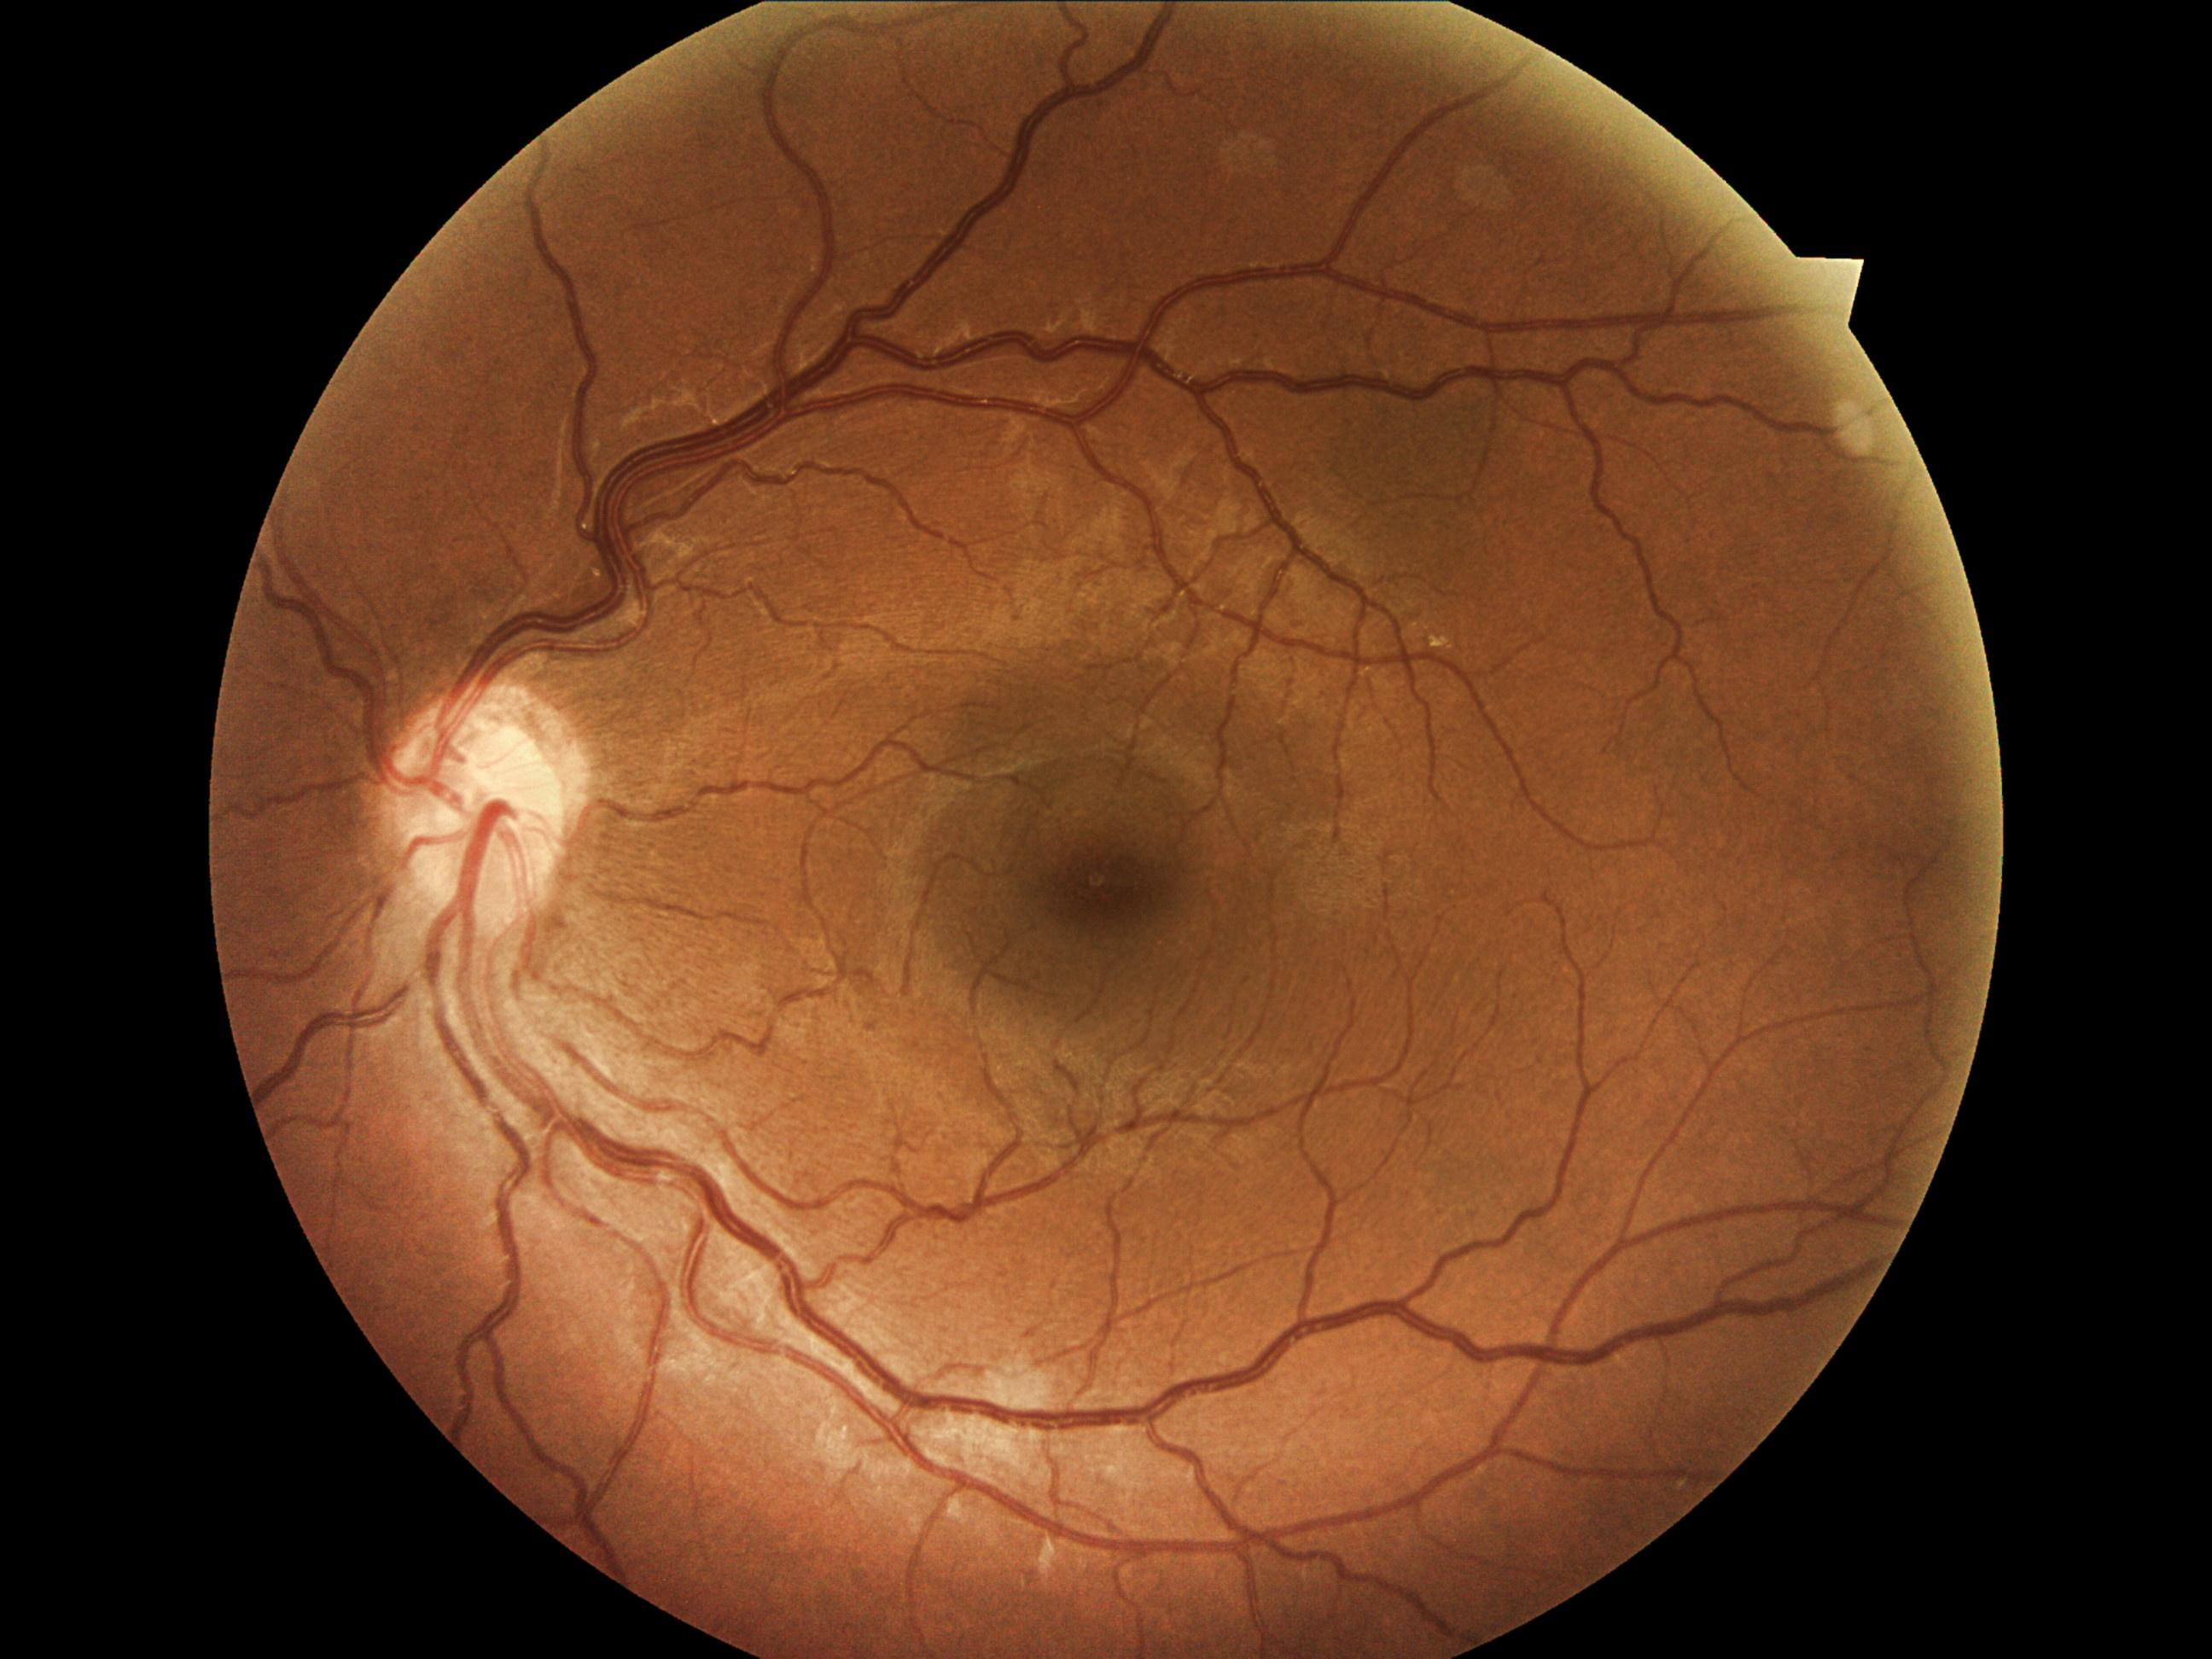Optic-nerve: (355, 669, 601, 941)
macula: (942, 735, 1308, 1093)
notch: (1780, 242, 1911, 343)
